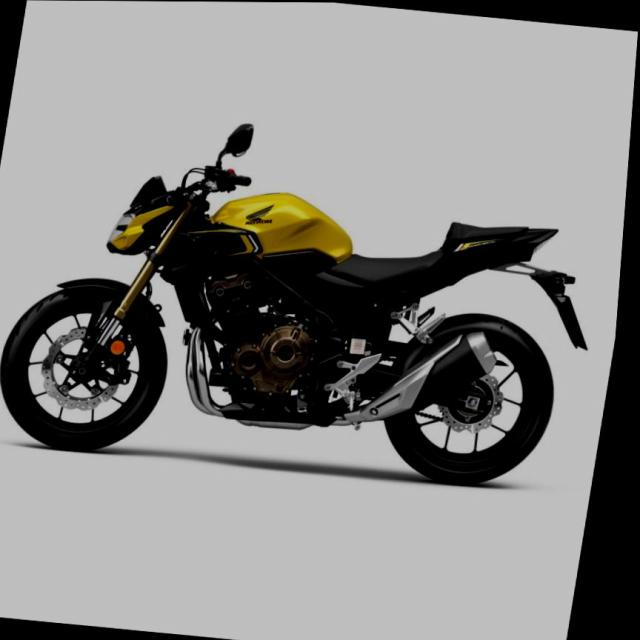CB500F: (0, 162, 614, 497)
